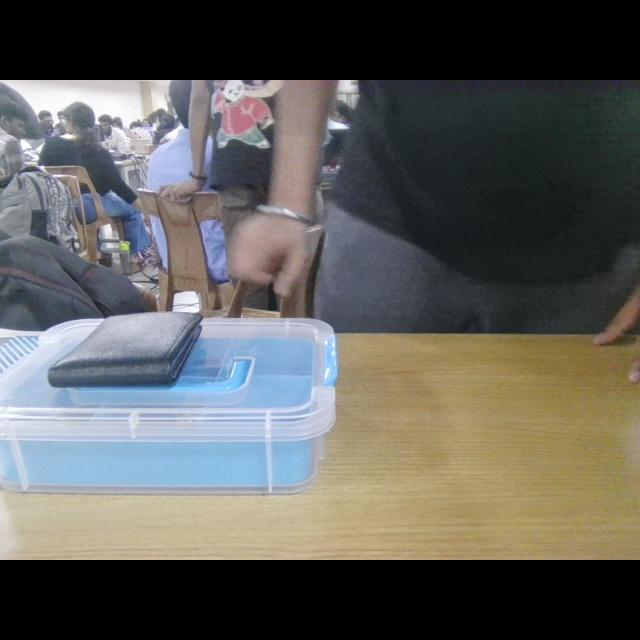wallet: (48, 286, 205, 398)
